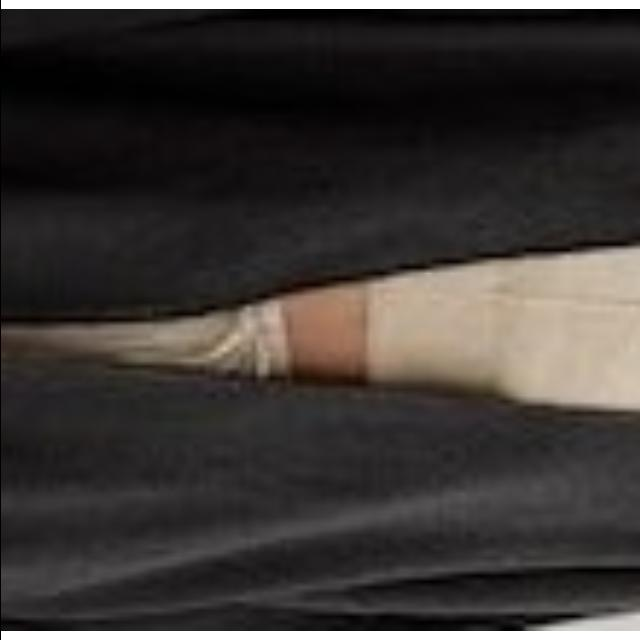polyester: (0, 9, 640, 631)
